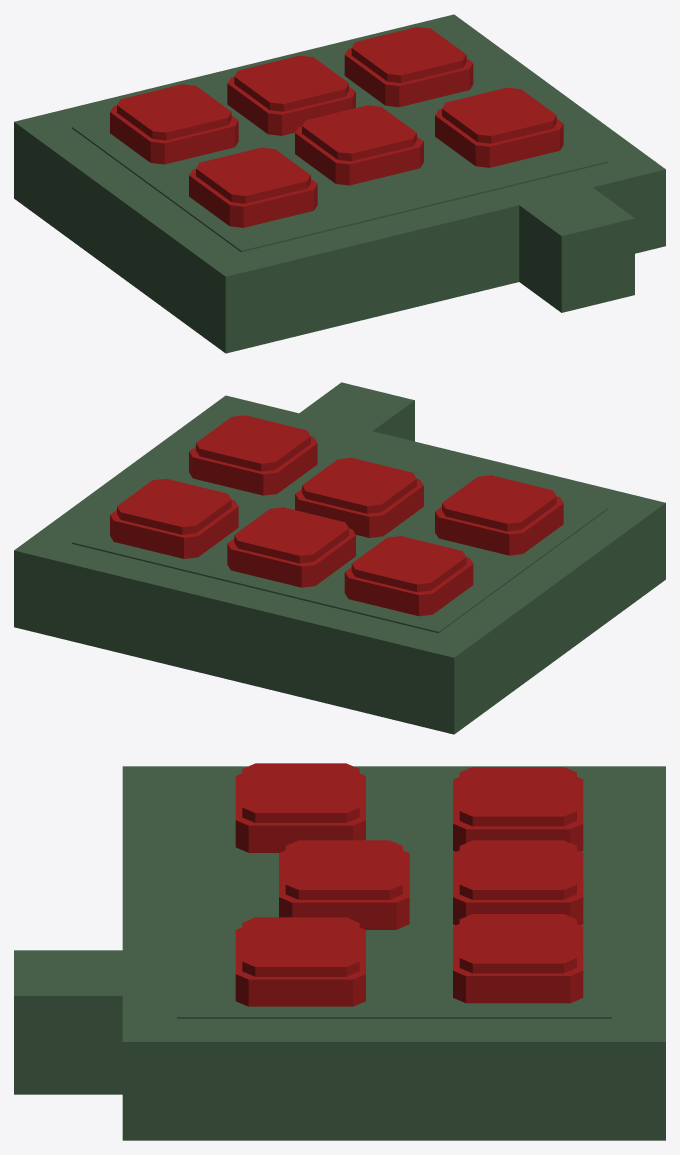
The model's file is EntitySensor.obj.
3 renders of one model, top to bottom at view 1: azimuth 30°, elevation 25°; view 2: azimuth 150°, elevation 25°; view 3: azimuth 270°, elevation 25°, orthographic. The views are drawn at different scales.
Visible parts, largest first — view 1: Handle, Left, Front, Right, Down, Up, Back; view 2: Handle, Right, Up, Back, Down, Left, Front; view 3: Handle, Left, Up, Front, Down, Back, Right.
Part boxes in pixels (x1,y1,x2,y2): Handle: (14, 14, 665, 353); Left: (344, 27, 473, 107); Front: (295, 105, 423, 185); Right: (110, 84, 238, 164); Down: (189, 147, 317, 227); Up: (435, 87, 563, 167); Back: (227, 55, 355, 135); Handle: (14, 382, 665, 734); Right: (344, 536, 473, 616); Up: (189, 415, 317, 495); Back: (227, 507, 355, 587); Down: (435, 475, 563, 555); Left: (110, 478, 238, 558); Front: (295, 457, 423, 537); Handle: (14, 766, 665, 1140); Left: (453, 914, 583, 1003); Up: (235, 917, 365, 1006); Front: (279, 840, 409, 929); Down: (235, 763, 365, 852); Back: (453, 840, 583, 925); Right: (453, 767, 583, 851).
Bounding box in the file's own units: 3 × 0.698 × 3.
